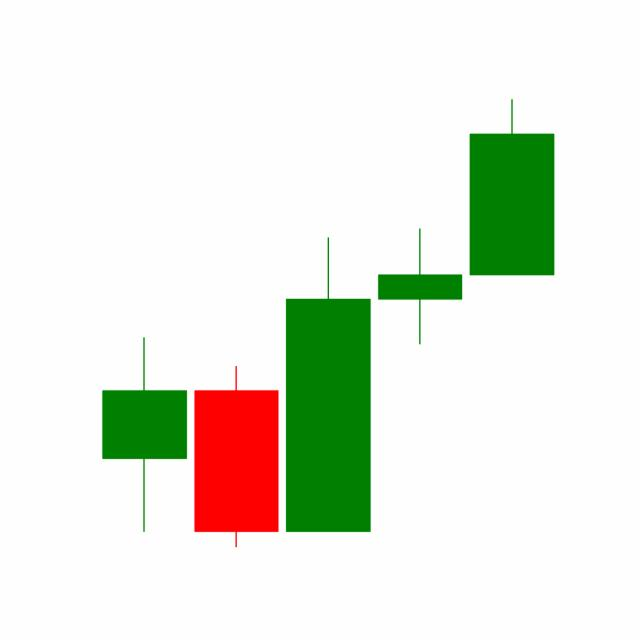Spinning Top: (373, 227, 467, 346)
